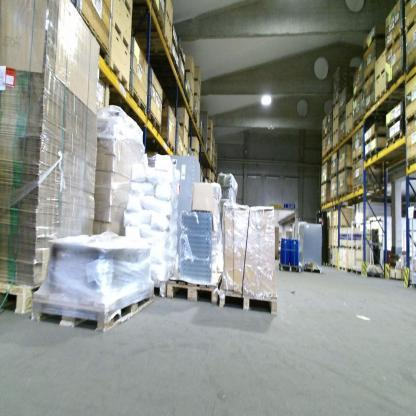pallets: (31, 286, 155, 332), (153, 273, 277, 318), (99, 58, 164, 137), (364, 131, 407, 165), (325, 262, 363, 276), (331, 241, 365, 253), (278, 261, 302, 273)
